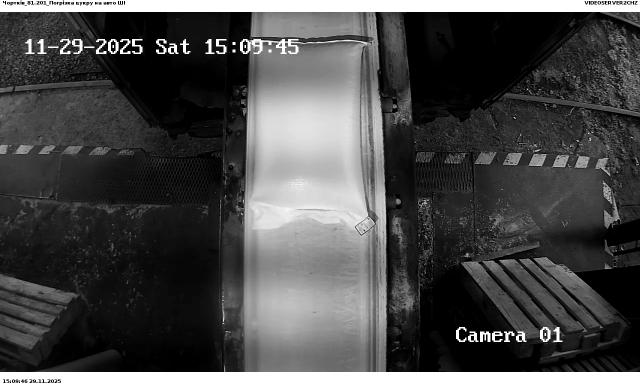bag: (250, 39, 374, 236)
